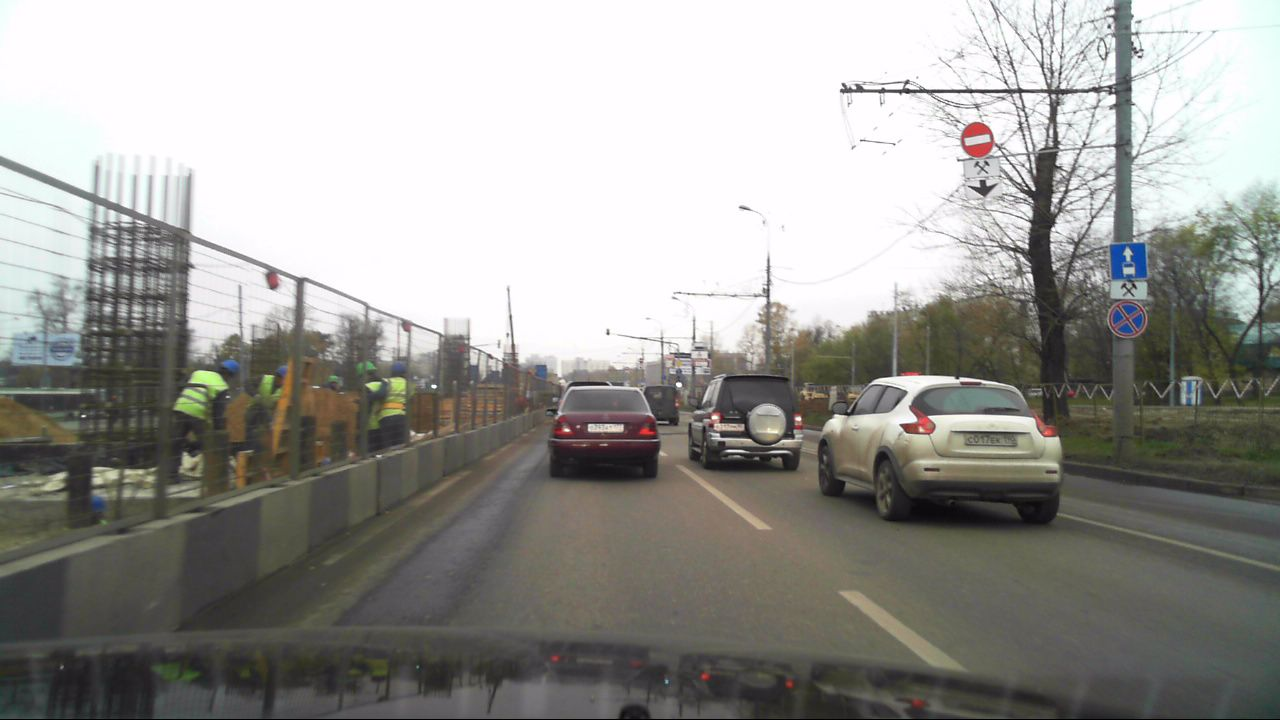No Parking: (1107, 302, 1146, 337)
